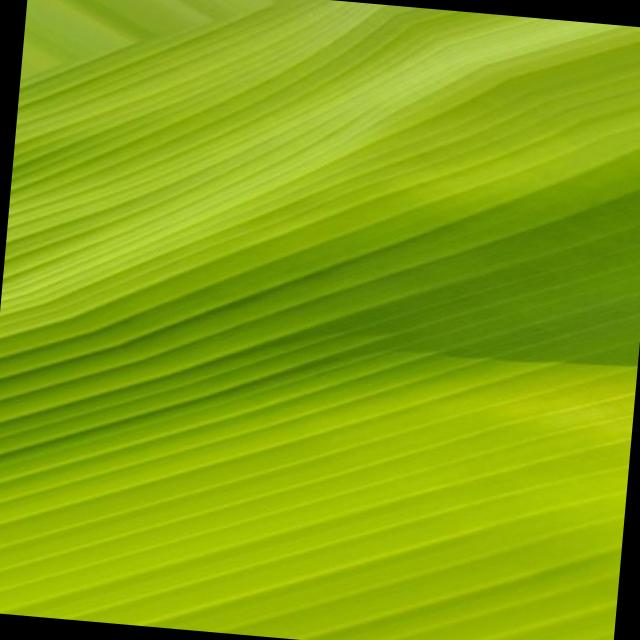Banana_Healthy: (139, 123, 531, 562)
